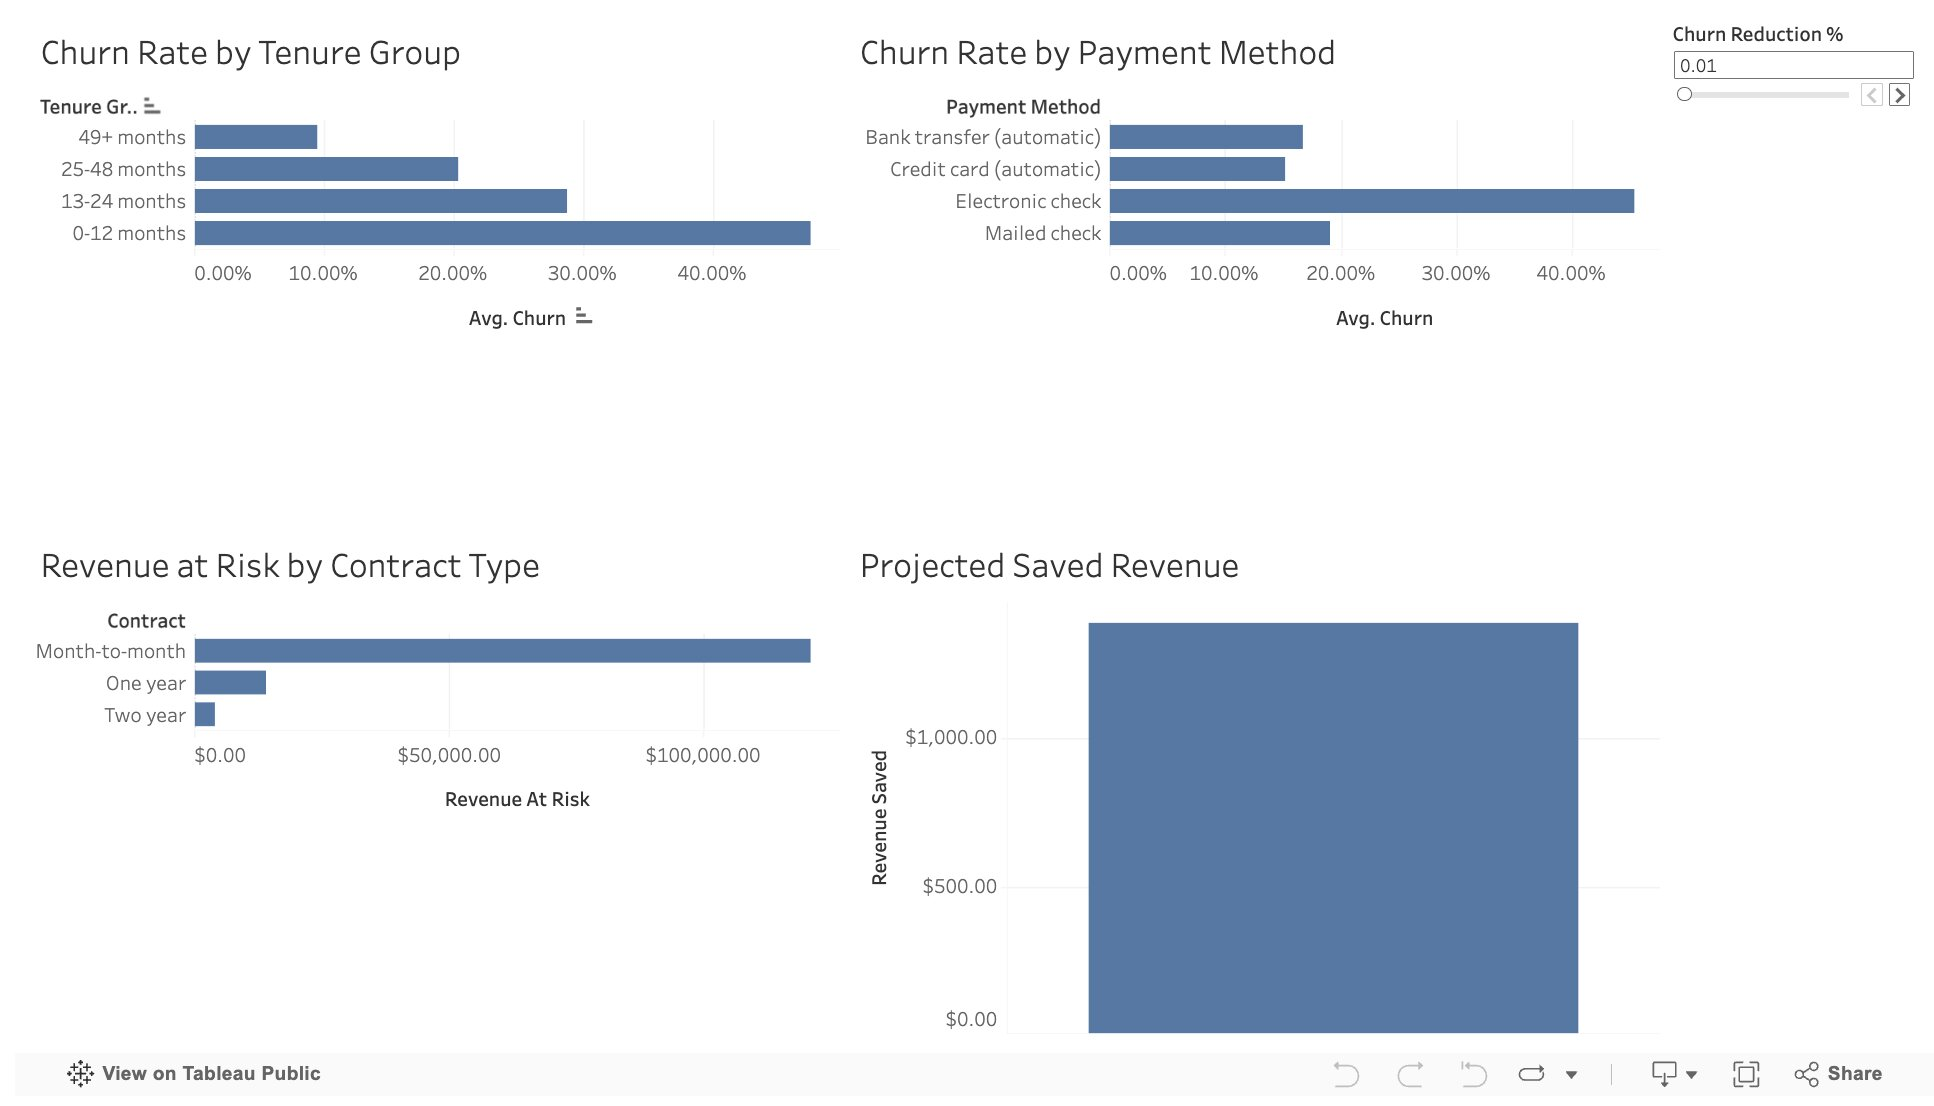

This screenshot's page, from the dashboard's own definition file:
{"tool":"tableau","page":{"name":"Customer Churn Analysis","canvas":[1000,1000],"units":"permille","ordinal":0},"visuals":[{"type":"worksheet","title":"Churn Rate by Tenure Group","mark":"Automatic","rows":["TenureGroup"],"cols":["Churn"],"box":[6.7,11.3,426.7,488.7]},{"type":"worksheet","title":"Churn Rate by Payment Method","mark":"Automatic","rows":["PaymentMethod"],"cols":["Churn"],"box":[433.3,11.3,426.7,488.7]},{"type":"parameter","param":"[Parameters].[Parameter 1]","box":[860,11.3,133.3,106.2]},{"type":"worksheet","title":"Revenue at Risk by Contract Type ","mark":"Automatic","rows":["Contract"],"cols":["RevenueAtRisk"],"box":[6.7,500,426.7,488.7]},{"type":"worksheet","title":"Projected Saved Revenue","mark":"Automatic","rows":["Calculation_6074780770091008"],"box":[433.3,500,426.7,488.7]}]}

Visuals, with their boxes on the dashboard's canvas, which has no fixed pixel size, in thousandths of its width and height (x1, y1, x2, y2). These are canvas units, not pixel positions in the 1934x1106 screenshot, which may show the page scaled, cropped or inside an application window:
"Churn Rate by Tenure Group" worksheet: pyautogui.locateOnScreen(7, 11, 433, 500)
"Churn Rate by Payment Method" worksheet: pyautogui.locateOnScreen(433, 11, 860, 500)
parameter: pyautogui.locateOnScreen(860, 11, 993, 118)
"Revenue at Risk by Contract Type " worksheet: pyautogui.locateOnScreen(7, 500, 433, 989)
"Projected Saved Revenue" worksheet: pyautogui.locateOnScreen(433, 500, 860, 989)
